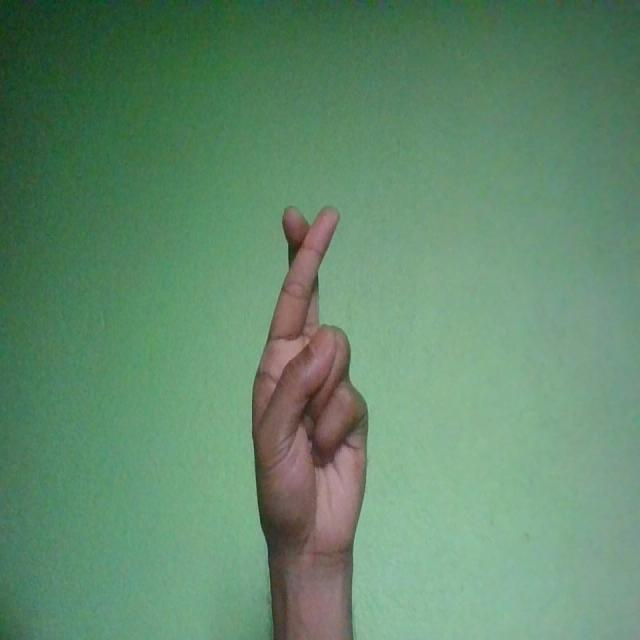Ok: (250, 204, 368, 568)
